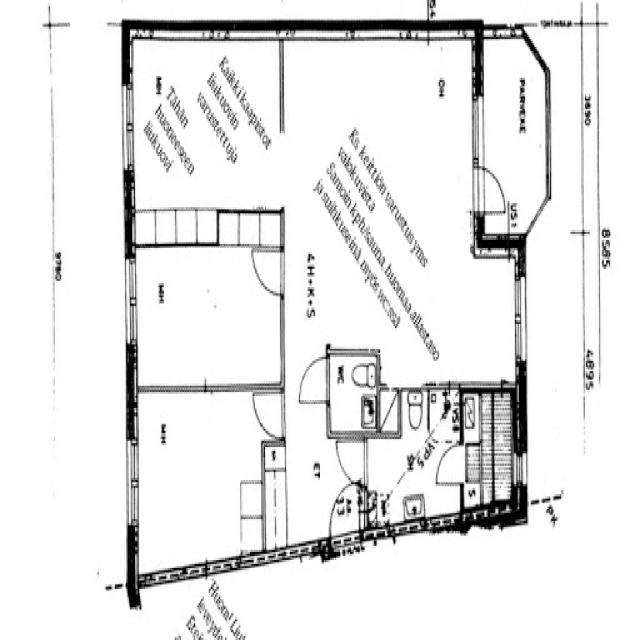door: (467, 162, 512, 222), (326, 480, 366, 546), (249, 383, 289, 441), (332, 429, 370, 488), (250, 244, 290, 296), (298, 354, 332, 410), (431, 440, 466, 490)
window: (122, 412, 143, 534), (119, 257, 140, 347), (510, 273, 529, 366), (119, 82, 137, 178), (274, 298, 290, 386), (469, 94, 487, 166), (512, 448, 529, 490)
zone: (280, 25, 484, 360), (126, 35, 283, 238), (131, 385, 273, 568), (130, 227, 282, 390), (478, 24, 551, 241), (362, 388, 464, 530), (463, 387, 519, 509), (326, 350, 381, 436)
